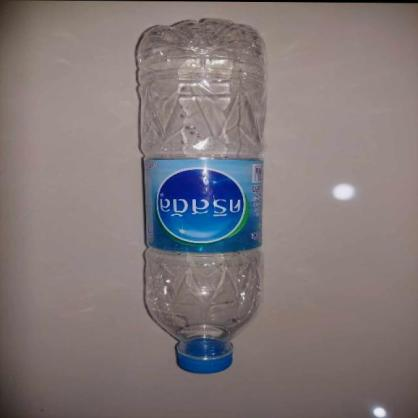bottle: (133, 17, 267, 376)
cap: (175, 343, 235, 373)
label: (140, 156, 264, 256)
